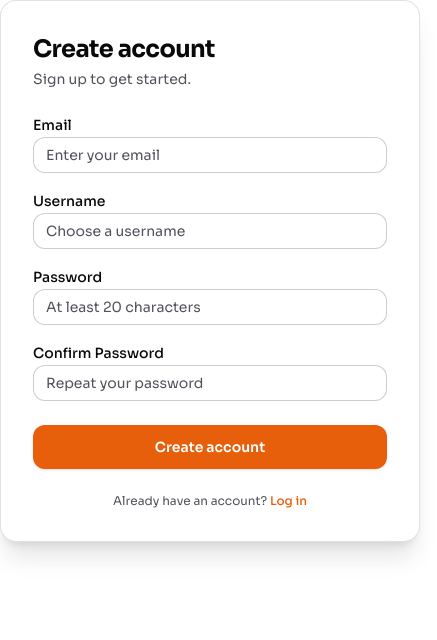
RegisterForm Component › enforces validation for password length >= 20 and matching passwords
The width and height of the screenshot is (437, 640).
Type "newuser@example.com" into the field labelled "Email" at (210, 155), box [33, 137, 387, 173]
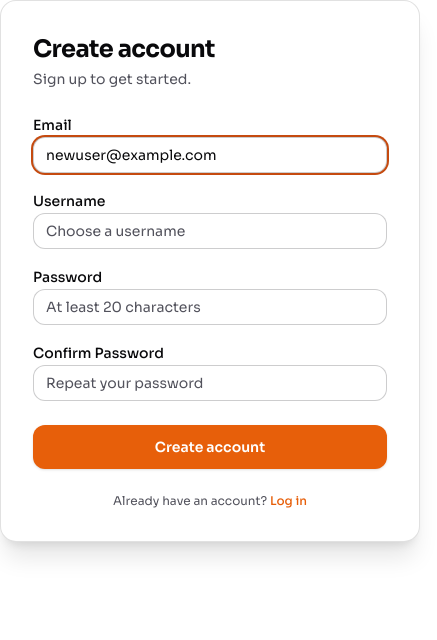
Type "newuser" into the field labelled "Username" at (210, 231), box [33, 213, 387, 249]
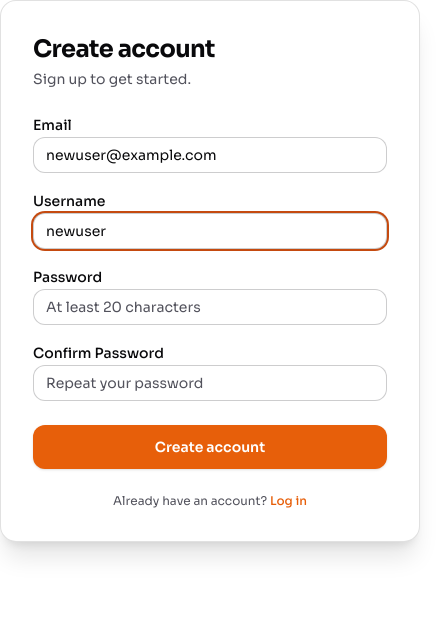
Type "shortpass" into the password field labelled "Password" at (210, 307), box [33, 289, 387, 325]
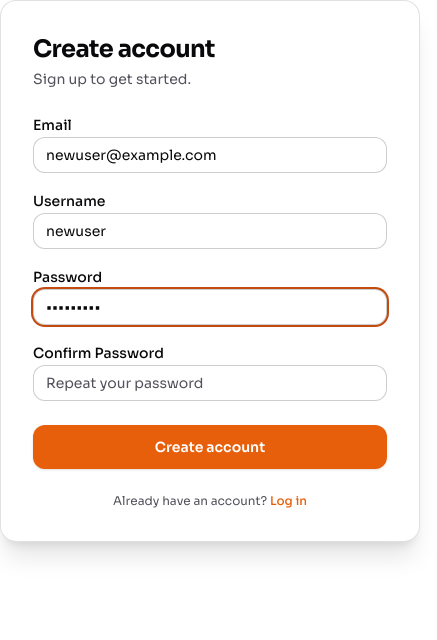
Type "mismatchpass" into the password field labelled "Confirm Password" at (210, 383), box [33, 365, 387, 401]
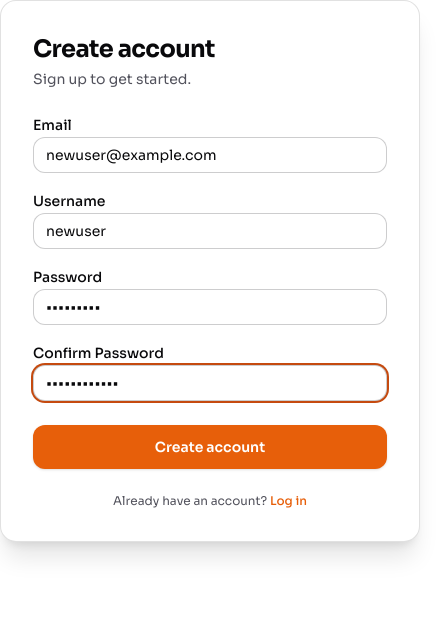
Click the button "Create account" at (210, 447), box [33, 425, 387, 469]
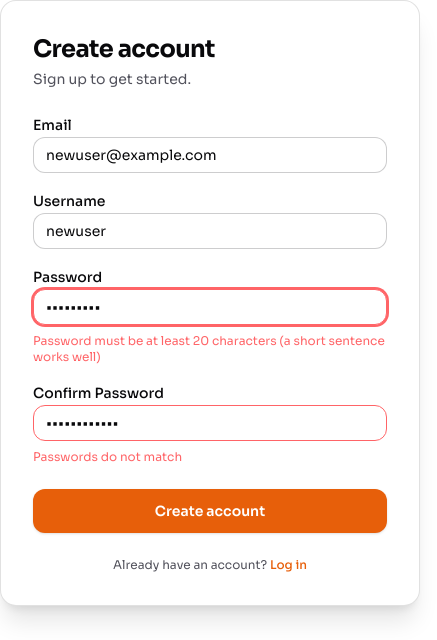
Expected: the text "Password must be at least 20 characters" is shown, [33, 333, 385, 364]
Expected: the text "Passwords do not match" is shown, [33, 449, 182, 464]
